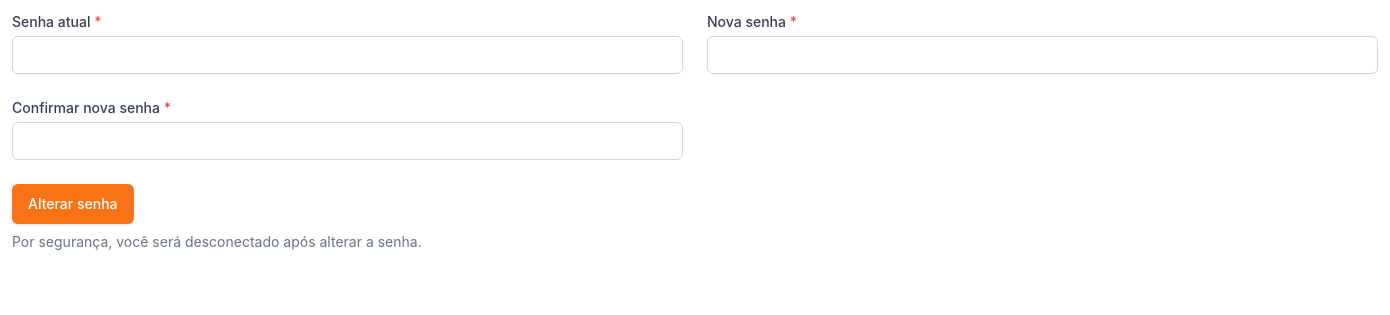
Test: PasswordForm › deve exibir erro quando nova senha não é fornecida
Step 1. Type "senha123" into the password field labelled "Senha atual *" → (348, 55), box [12,36,683,74]
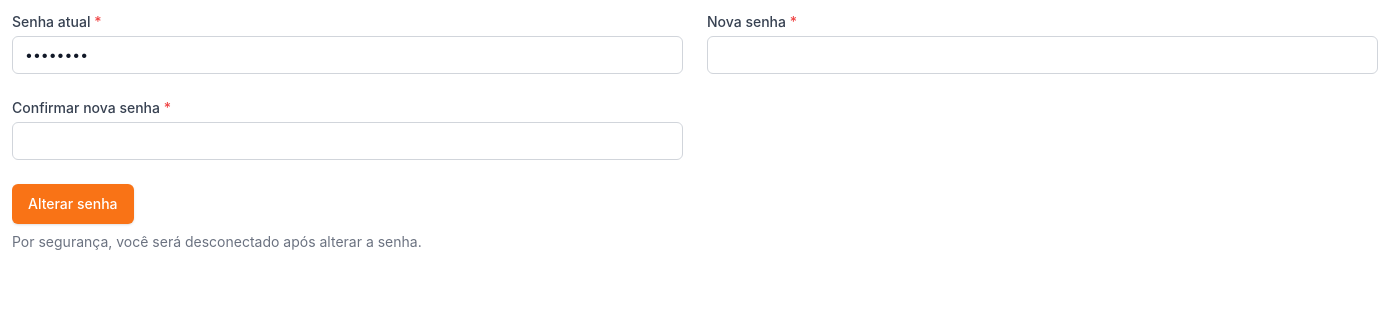
Step 2. Submit the form "Alterar senha"
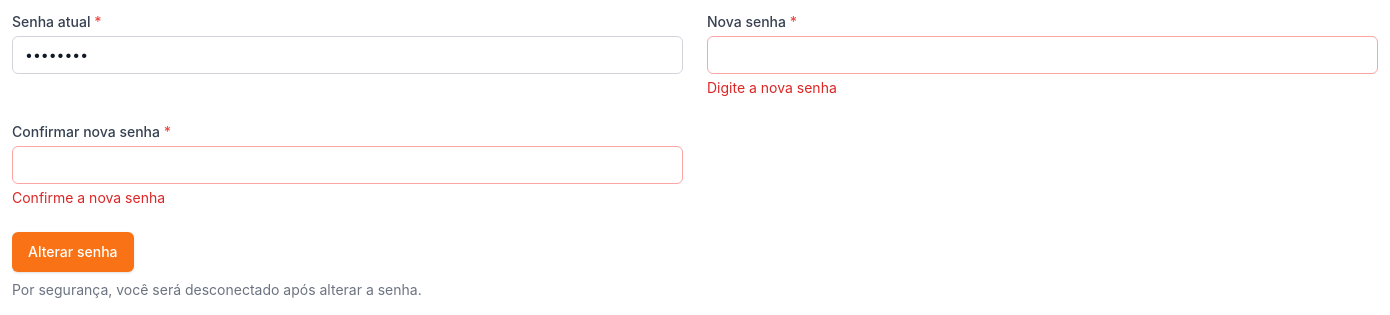
Result: the text "Digite a nova senha" is shown at [707,79,837,96]
